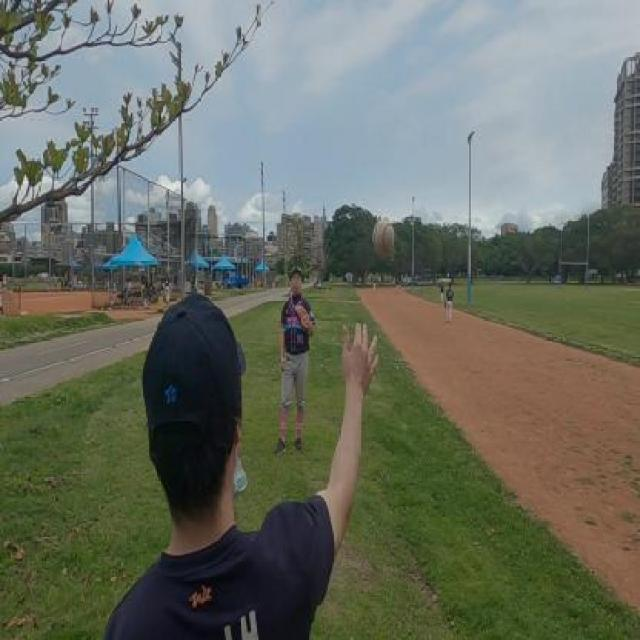baseball: (372, 218, 394, 258)
